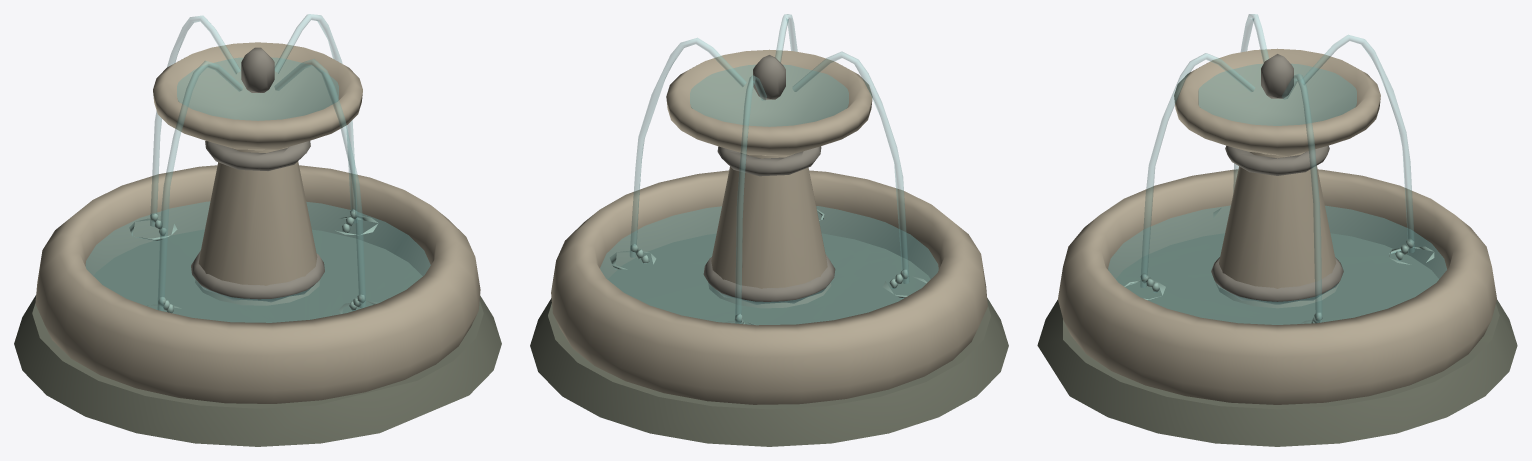
The model's file is fuente_lod.glb.
3 renders of one model, left to right at view 1: azimuth 30°, elevation 25°; view 2: azimuth 150°, elevation 25°; view 3: azimuth 270°, elevation 25°, orthographic.
Visible parts, largest first — view 1: fuente, fu_chorros; view 2: fuente, fu_chorros; view 3: fuente, fu_chorros.
Part boxes in pixels (x1,y1,x2,y2): fuente: (14,42,501,446); fu_chorros: (150,14,365,313); fuente: (530,49,1008,446); fu_chorros: (630,14,909,324); fuente: (1037,48,1517,446); fu_chorros: (1140,14,1414,323).
Bounding box in the file's own units: 1.88 × 1.3 × 1.88.
